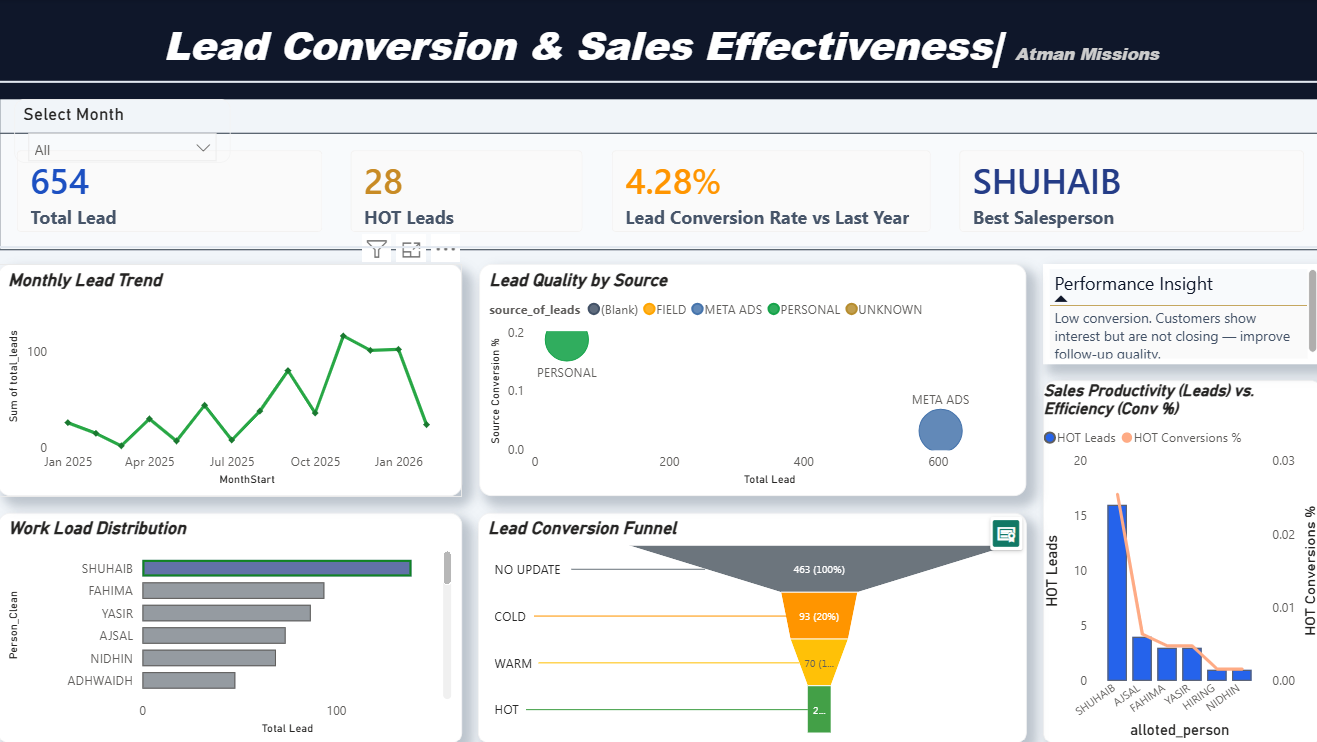

The dashboard page shown, as its layout file describes it:
{"tool":"powerbi","page":{"name":"sales performance","canvas":[1280,720],"ordinal":5},"visuals":[{"type":"shape","title":"14 Shape","box":[1.2,0,1278,80],"z":0},{"type":"shape","box":[1.2,79.6,1277.6,63.9],"z":1000},{"type":"clusteredBarChart","title":"Work Load Distribution","fields":{"Category":["sales_clean.Person_Clean"],"Y":["sales_clean.Total Lead"]},"box":[0,496,448,224],"z":2000},{"type":"lineClusteredColumnComboChart","title":"Sales Productivity (Leads) vs. Efficiency (Conv %)","fields":{"Category":["vw_sales_performance.alloted_person"],"Y":["sales_clean.HOT Leads"],"Y2":["sales_clean.HOT Conversions %"]},"box":[1008,368,272,352],"z":3000},{"type":"funnel","title":"Lead Conversion Funnel","fields":{"Category":["sales_clean.Stage_Final"],"Y":["CountNonNull(sales_clean.sl_no)"]},"box":[464,496,528,224],"z":4000},{"type":"actionButton","box":[0,0,100,40],"z":5000},{"type":"scatterChart","title":"Lead Quality by Source","fields":{"Series":["sales_clean.source_of_leads"],"Size":["CountNonNull(vw_sales_performance.hot_leads)"],"X":["sales_clean.Total Lead"],"Y":["sales_clean.Source Conversion %"]},"box":[464,256,528,224],"z":6000},{"type":"shape","box":[1.2,129.1,1278.8,113.4],"z":7000},{"type":"lineChart","title":"Monthly Lead Trend","fields":{"Category":["Dim_Month.MonthStart"],"Y":["Sum(vw_monthly_leads.total_leads)"]},"box":[0,256,448,224],"z":8000},{"type":"cardVisual","fields":{"Data":["sales_clean.Total Lead"]},"box":[1.2,129.1,329.4,113.4],"z":9000},{"type":"cardVisual","fields":{"Data":["sales_clean.HOT Leads"]},"box":[323.7,129.1,258.2,113.4],"z":10000},{"type":"cardVisual","fields":{"Data":["Dim_Salesperson.Best Salesperson"]},"box":[910.9,129.1,368,113.4],"z":11000},{"type":"textbox","box":[1.2,0,1277.6,80],"z":12000},{"type":"slicer","title":"Select Month","fields":{"Values":["Dim_Month.YearMonth"]},"box":[5,89,208,64],"z":13000},{"type":"cardVisual","fields":{"Data":["Dim_Salesperson.Lead Conversion Rate"]},"box":[575.1,129.1,342.6,113.4],"z":14000},{"type":"shape","box":[0,208,1280,64],"z":15000},{"type":"shape","box":[0,64,1280,32],"z":16000},{"type":"tableEx","fields":{"Values":["sales_clean.Performance Insight"]},"box":[1008,256,272,96],"z":17000}]}

Visuals, with their boxes in screenshot pixels (x1, y1, x2, y2), scaled from the page's 1280x720 canvas onto the 1317x742 screenshot:
"14 Shape" shape: bbox(1, 0, 1316, 82)
shape: bbox(1, 82, 1316, 148)
"Work Load Distribution" clusteredBarChart: bbox(0, 511, 461, 741)
"Sales Productivity (Leads) vs. Efficiency (Conv %)" lineClusteredColumnComboChart: bbox(1037, 379, 1316, 741)
"Lead Conversion Funnel" funnel: bbox(477, 511, 1021, 741)
actionButton: bbox(0, 0, 103, 41)
"Lead Quality by Source" scatterChart: bbox(477, 264, 1021, 495)
shape: bbox(1, 133, 1316, 250)
"Monthly Lead Trend" lineChart: bbox(0, 264, 461, 495)
cardVisual - sales_clean.Total Lead: bbox(1, 133, 340, 250)
cardVisual - sales_clean.HOT Leads: bbox(333, 133, 599, 250)
cardVisual - Dim_Salesperson.Best Salesperson: bbox(937, 133, 1316, 250)
textbox: bbox(1, 0, 1316, 82)
"Select Month" slicer: bbox(5, 92, 219, 158)
cardVisual - Dim_Salesperson.Lead Conversion Rate: bbox(592, 133, 944, 250)
shape: bbox(0, 214, 1316, 280)
shape: bbox(0, 66, 1316, 99)
tableEx - sales_clean.Performance Insight: bbox(1037, 264, 1316, 363)
